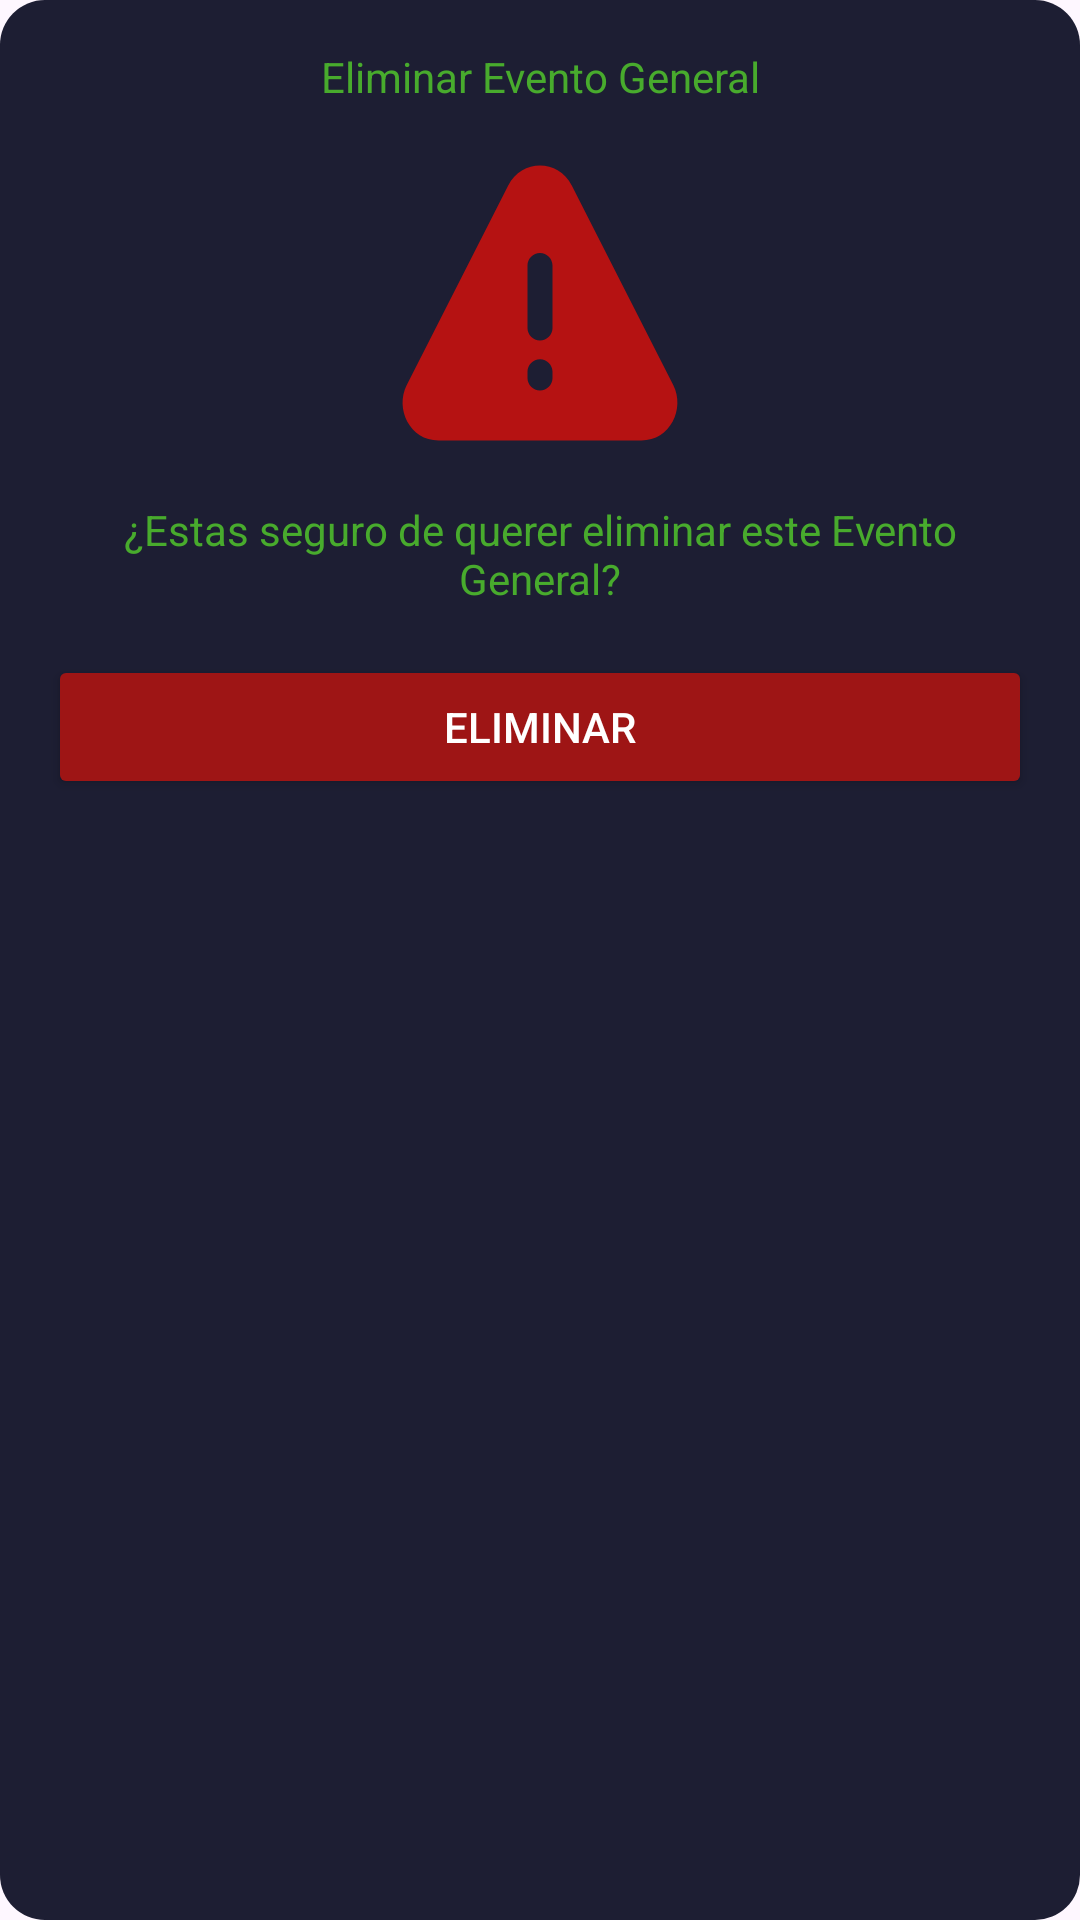

Screen size 1080px×1920px. Icon name, then its center in pixels as [x,y]:
trianglered: [540,303]
